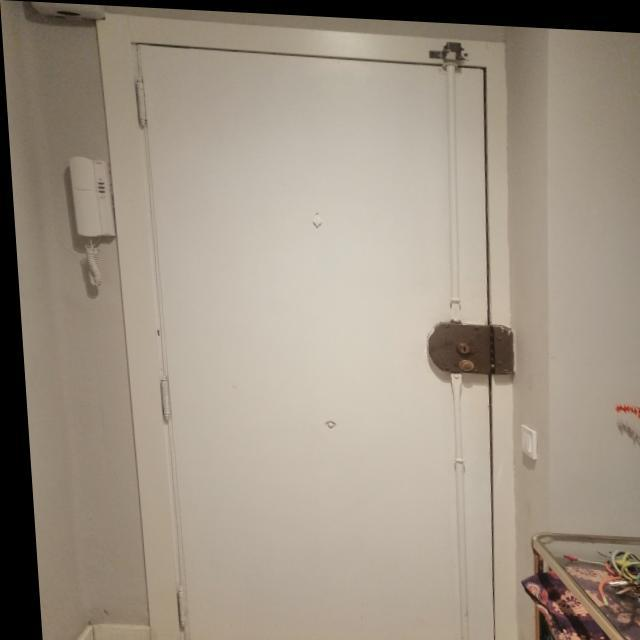door_handle: (421, 317, 496, 373)
